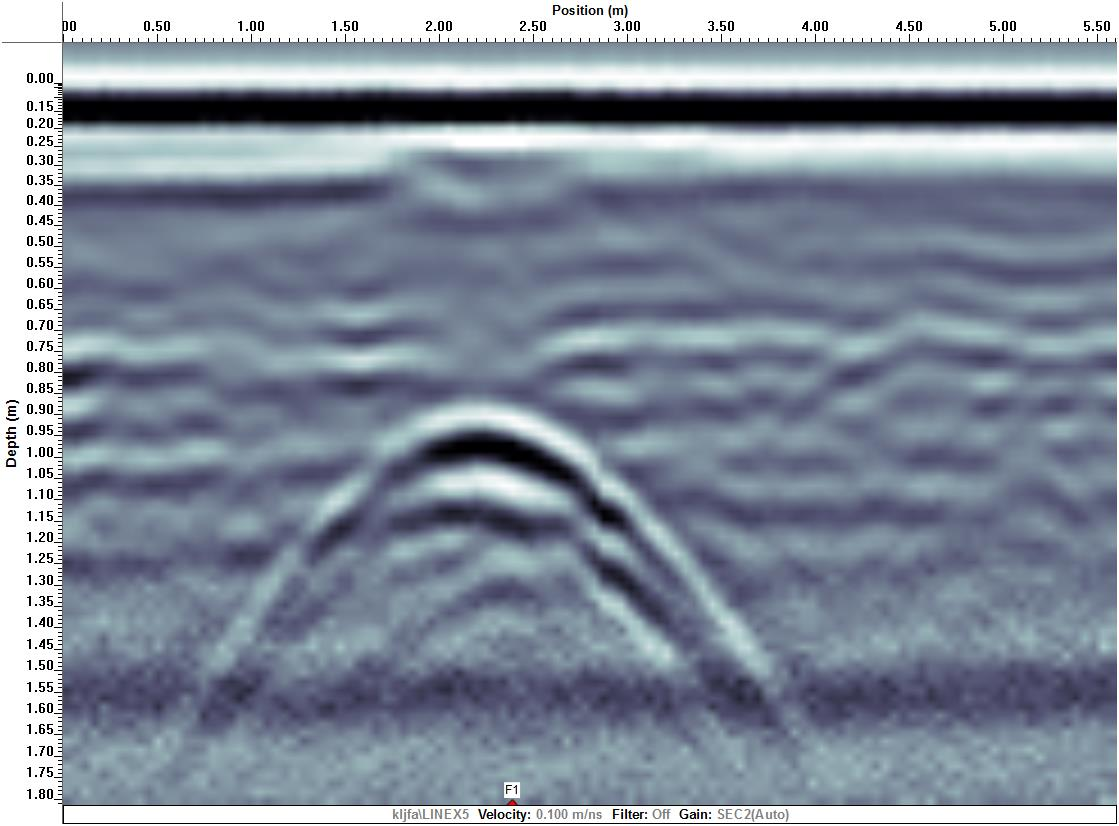hyperbola: (192, 402, 769, 724)
